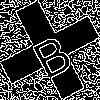B: (25, 25, 76, 81)
